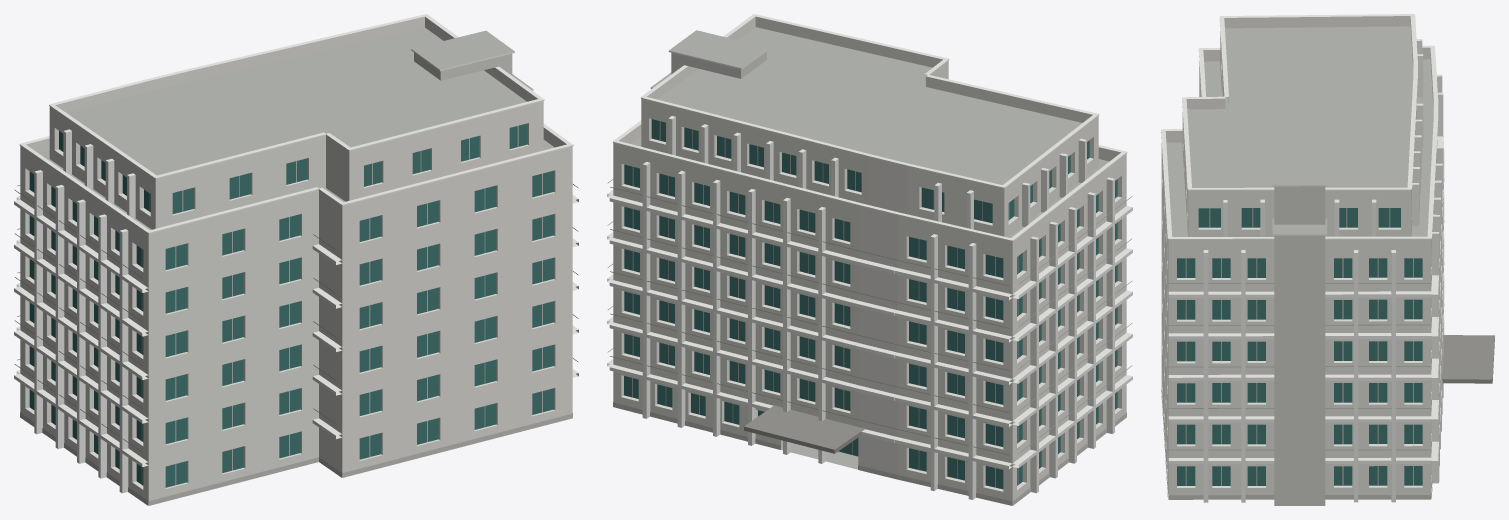
3 views of the same model, side by side, from view 1: azimuth 30°, elevation 25°; view 2: azimuth 150°, elevation 25°; view 3: azimuth 270°, elevation 25° (orthographic). The views are drawn at different scales.
Parts seen in each view (by area): view 1: law2__wall, law2__roof, law2__glass, law2__trim, law2__parapet, law2__base, law2__frame, law2__wall2; view 2: law2__wall, law2__trim, law2__roof, law2__glass, law2__parapet, law2__frame, law2__canopy, law2__base, law2__wall2; view 3: law2__wall, law2__roof, law2__trim, law2__wall2, law2__glass, law2__parapet, law2__frame, law2__canopy, law2__base.
Part boxes in pixels (left/top/right/bottom): law2__wall: left=20, top=110, right=572, bottom=505; law2__roof: left=39, top=27, right=554, bottom=229; law2__glass: left=29, top=123, right=553, bottom=487; law2__trim: left=14, top=14, right=578, bottom=493; law2__parapet: left=20, top=16, right=572, bottom=244; law2__base: left=20, top=412, right=572, bottom=505; law2__frame: left=14, top=125, right=578, bottom=485; law2__wall2: left=414, top=52, right=512, bottom=80; law2__wall: left=613, top=70, right=1126, bottom=505; law2__trim: left=607, top=14, right=1132, bottom=499; law2__roof: left=631, top=27, right=1109, bottom=469; law2__glass: left=624, top=119, right=1117, bottom=489; law2__parapet: left=613, top=16, right=1126, bottom=251; law2__frame: left=607, top=121, right=1132, bottom=487; law2__canopy: left=744, top=405, right=864, bottom=453; law2__base: left=613, top=402, right=1126, bottom=505; law2__wall2: left=671, top=51, right=766, bottom=78; law2__wall: left=1161, top=32, right=1437, bottom=498; law2__roof: left=1166, top=26, right=1433, bottom=236; law2__trim: left=1161, top=14, right=1444, bottom=502; law2__wall2: left=1274, top=186, right=1325, bottom=505; law2__glass: left=1177, top=208, right=1422, bottom=485; law2__parapet: left=1165, top=16, right=1433, bottom=249; law2__frame: left=1168, top=136, right=1443, bottom=485; law2__canopy: left=1442, top=335, right=1494, bottom=383; law2__base: left=1161, top=390, right=1432, bottom=499.
Size of the model in its own units: 37.65 by 27.1 by 26.2.
